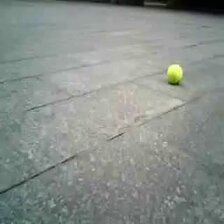tennis: (168, 64, 182, 82)
